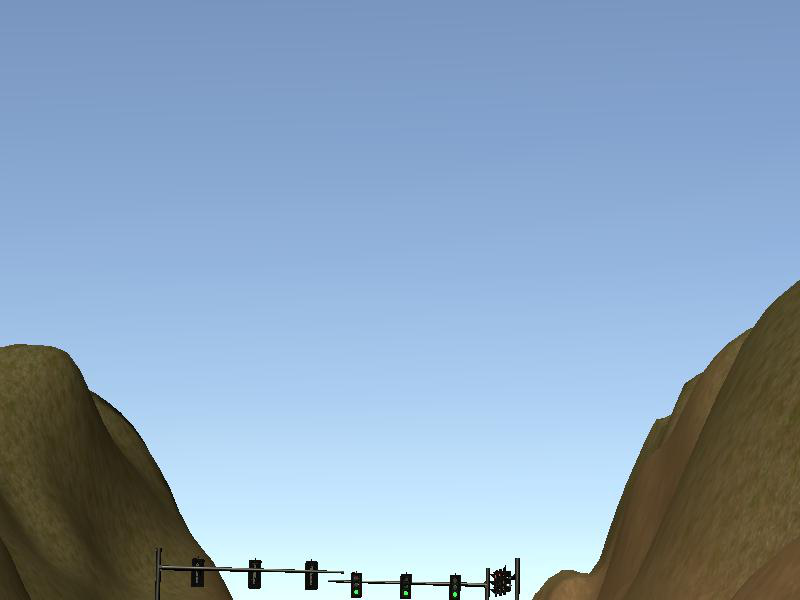green: (351, 571, 362, 598), (400, 574, 411, 600), (449, 574, 460, 600)
